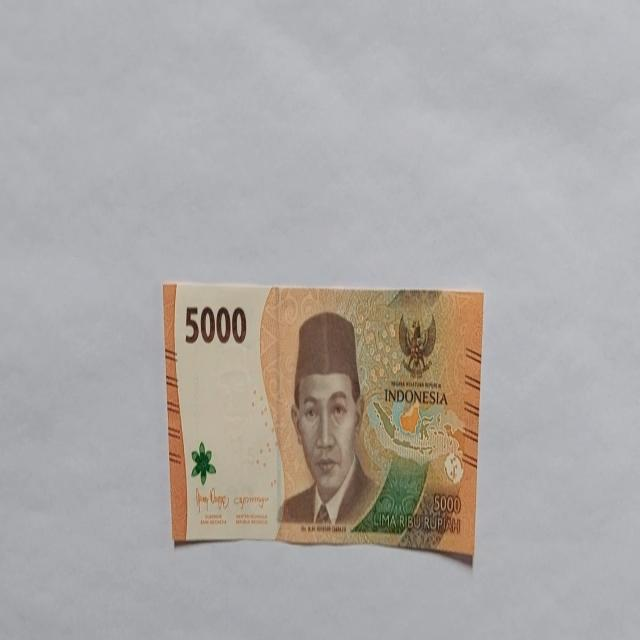lima ribu rupiah: (162, 280, 484, 564), (277, 310, 378, 529)
